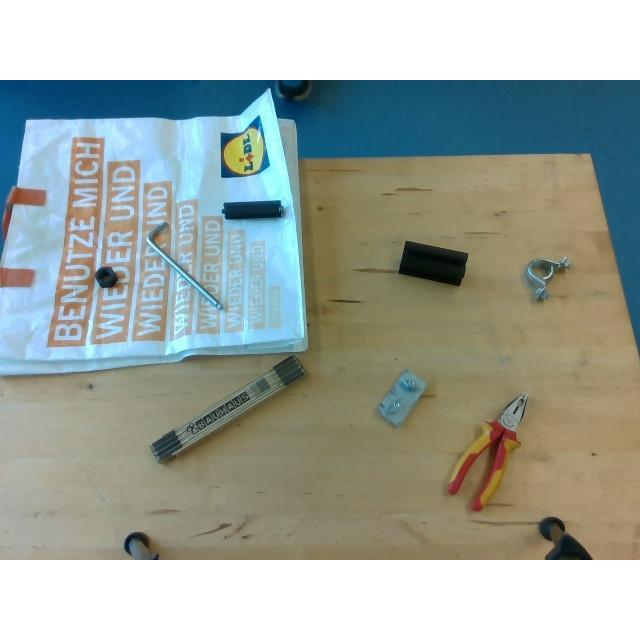AllenKey: (146, 222, 222, 310)
F20_20_B: (222, 200, 286, 220)
Housing: (525, 256, 571, 300)
M20: (95, 267, 117, 287)
M30: (277, 80, 311, 100)
S40_40_B: (398, 240, 467, 284)
